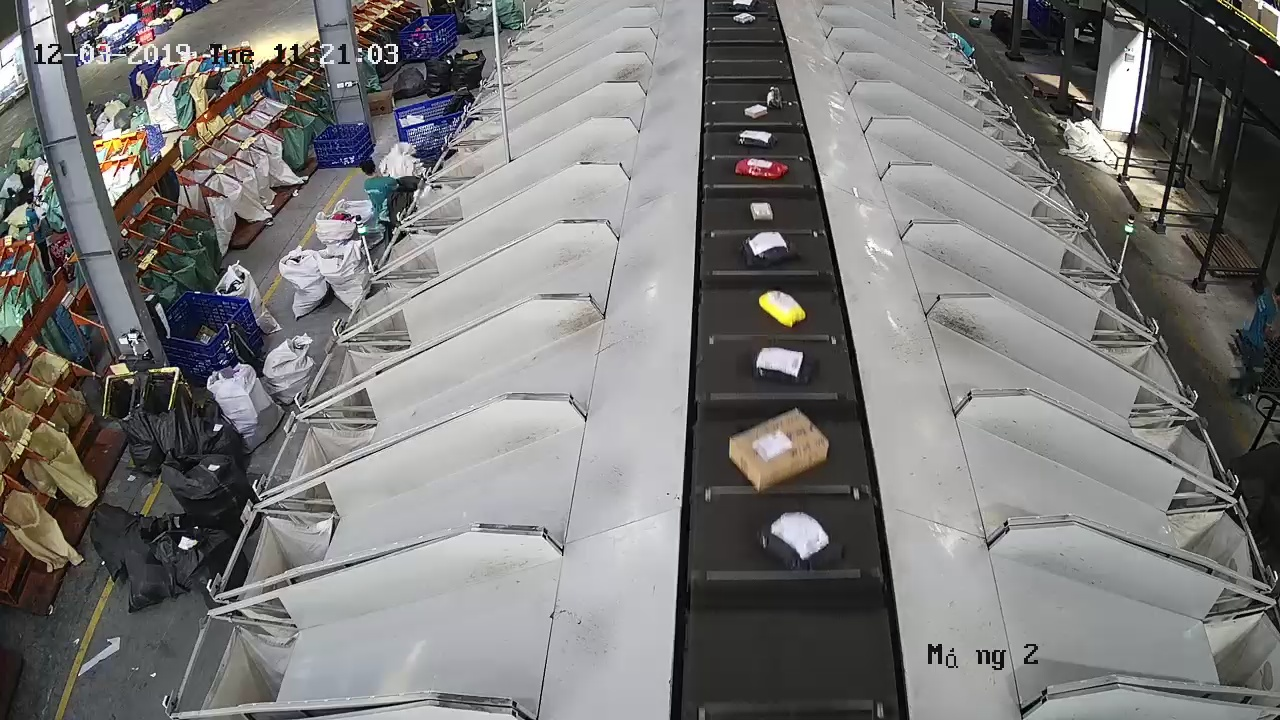parcel: (727, 406, 831, 495), (757, 512, 831, 572), (751, 345, 808, 385), (739, 230, 792, 269), (757, 289, 808, 329), (748, 201, 775, 222)
